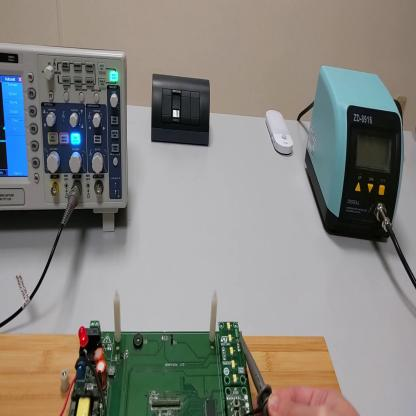hand: (269, 378, 360, 416)
low voltage board: (61, 289, 254, 416)
oscilloscope: (1, 44, 129, 237)
oscilloscope probe tip: (240, 335, 272, 416)
welder station: (304, 65, 406, 243)
working area: (2, 330, 347, 415)
